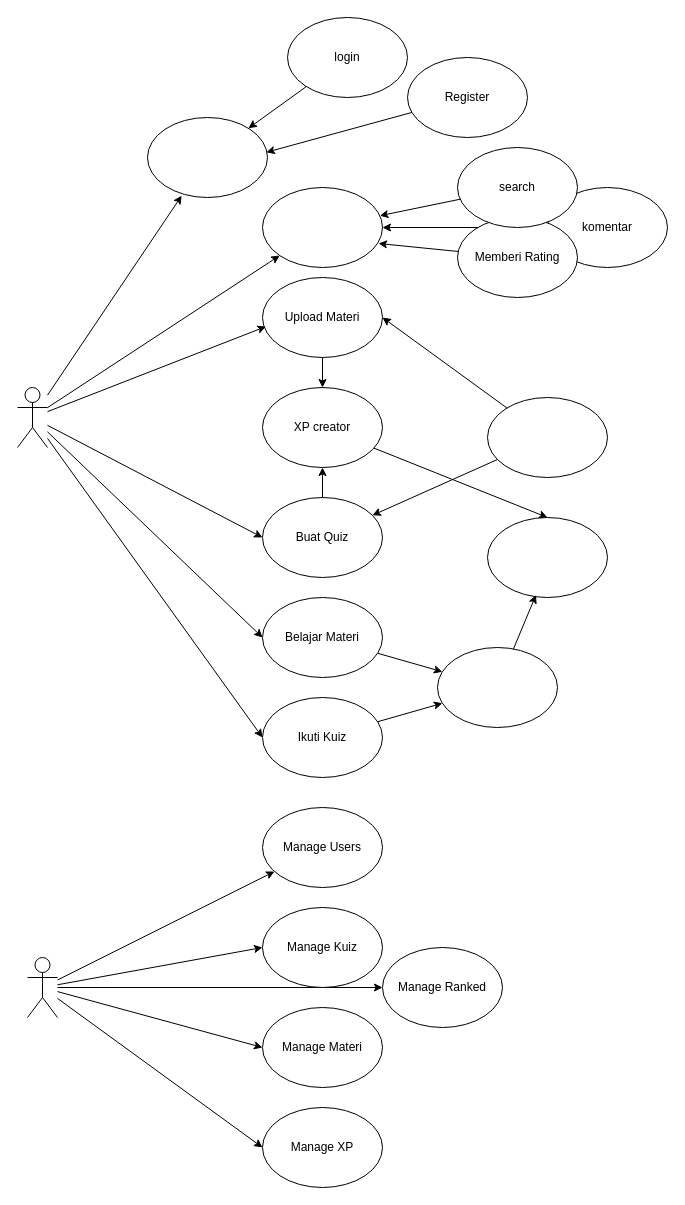
Image size: 685x1205. Some labels were removed from this diagram. The box of each missing label's shape, as (x1, y1, x2, y2) in pixels:
Admin: (26, 956, 58, 1018)
Auth: (146, 116, 268, 198)
CRUD: (486, 396, 608, 478)
Melihat Materi: (262, 186, 382, 268)
Ranked: (486, 516, 608, 598)
users: (16, 386, 48, 448)
XP learner: (436, 646, 558, 728)
